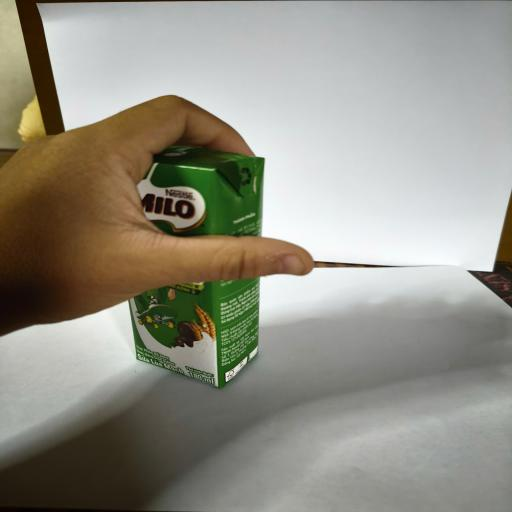milo: (128, 146, 264, 388)
